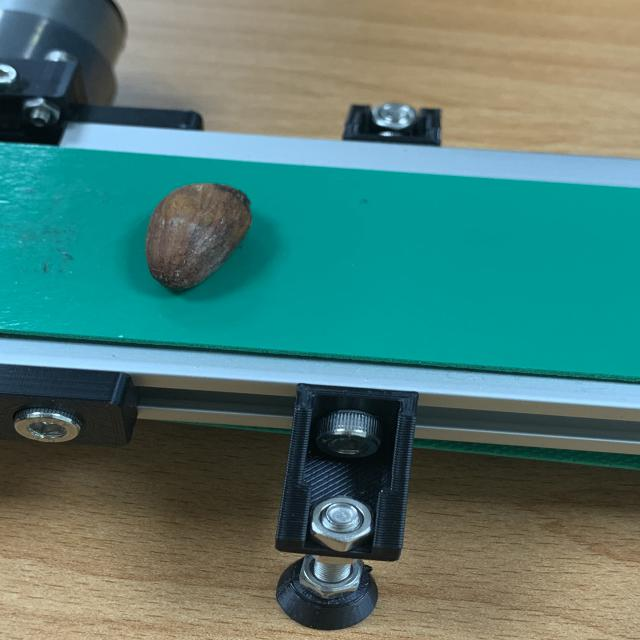Fine_cocoabeans: (84, 153, 311, 330)
